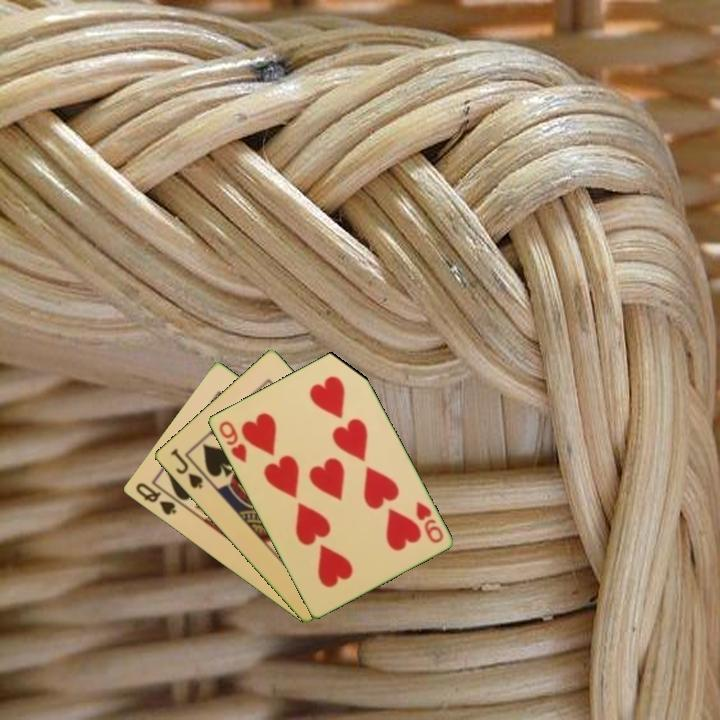9h: (215, 417, 249, 466), (412, 498, 446, 546)
Js: (166, 445, 205, 492)
Qs: (132, 479, 179, 518)
